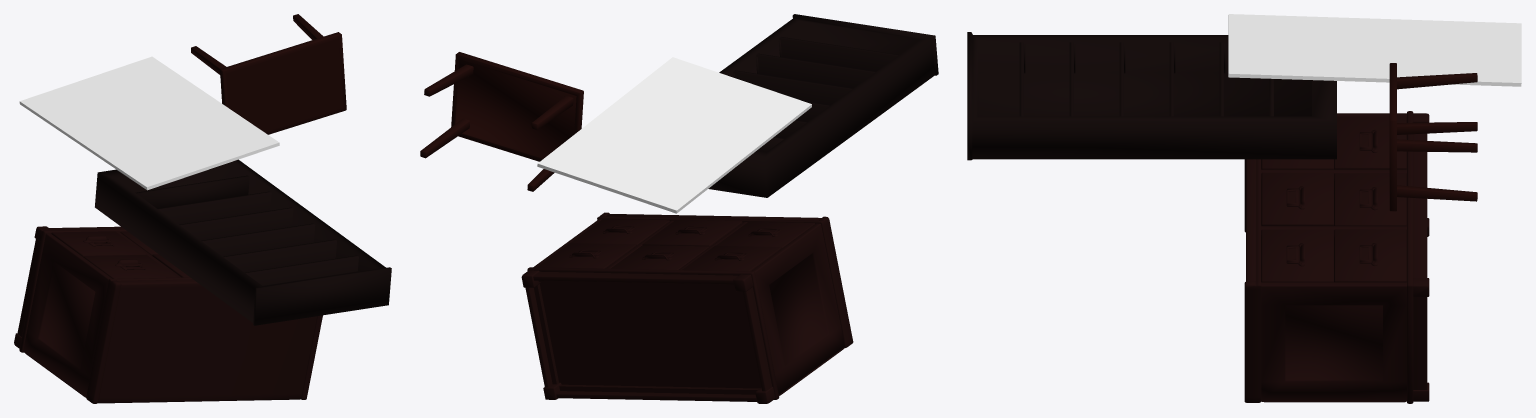
3 renders of one model, left to right at view 1: azimuth 30°, elevation 25°; view 2: azimuth 150°, elevation 25°; view 3: azimuth 270°, elevation 25°, orthographic. The views are drawn at different scales.
Parts seen in each view (by area): view 1: diffuse_cabinet_01, diffuse_shelf_03, glass_door_01, diffuse_table_02; view 2: diffuse_cabinet_01, glass_door_01, diffuse_shelf_03, diffuse_table_02; view 3: diffuse_cabinet_01, diffuse_shelf_03, glass_door_01, diffuse_table_02.
Boxes of the visible parts, <box> form: diffuse_cabinet_01: <box>14,226,322,403</box>; diffuse_shelf_03: <box>95,159,391,325</box>; glass_door_01: <box>19,56,279,190</box>; diffuse_table_02: <box>191,14,346,134</box>; diffuse_cabinet_01: <box>521,212,853,403</box>; glass_door_01: <box>537,57,811,213</box>; diffuse_shelf_03: <box>708,14,938,197</box>; diffuse_table_02: <box>420,52,583,191</box>; diffuse_cabinet_01: <box>1244,111,1429,403</box>; diffuse_shelf_03: <box>967,32,1336,160</box>; glass_door_01: <box>1228,14,1521,86</box>; diffuse_table_02: <box>1389,63,1477,211</box>.
Size of the model in its own units: 215 by 192 by 283.
